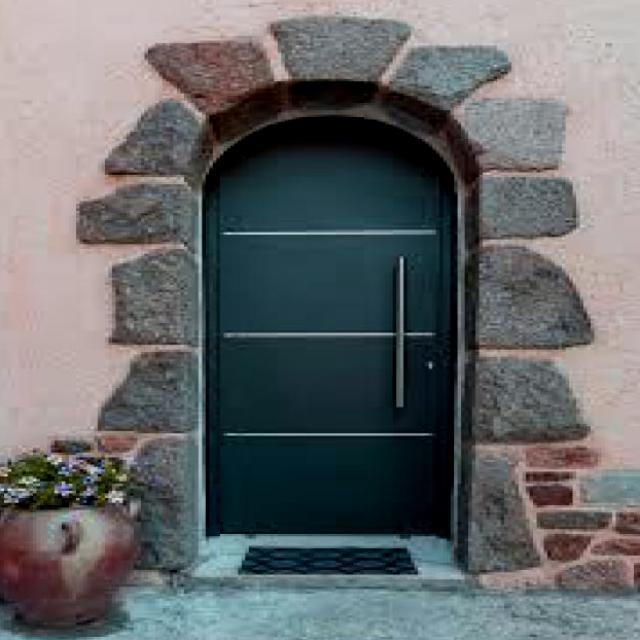door: (207, 127, 455, 539)
